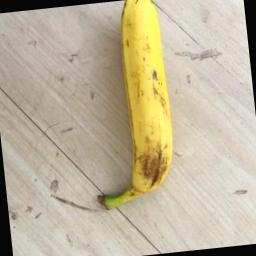Banana Ripe: (84, 0, 206, 219)
